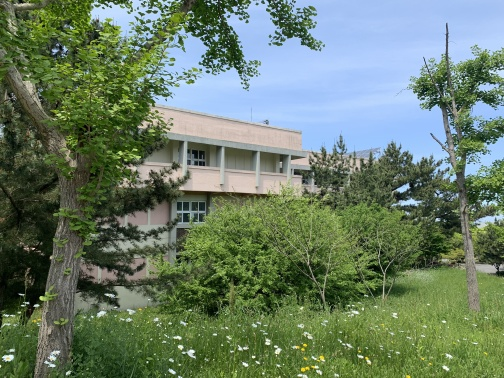College Of Education: (101, 103, 384, 299)
